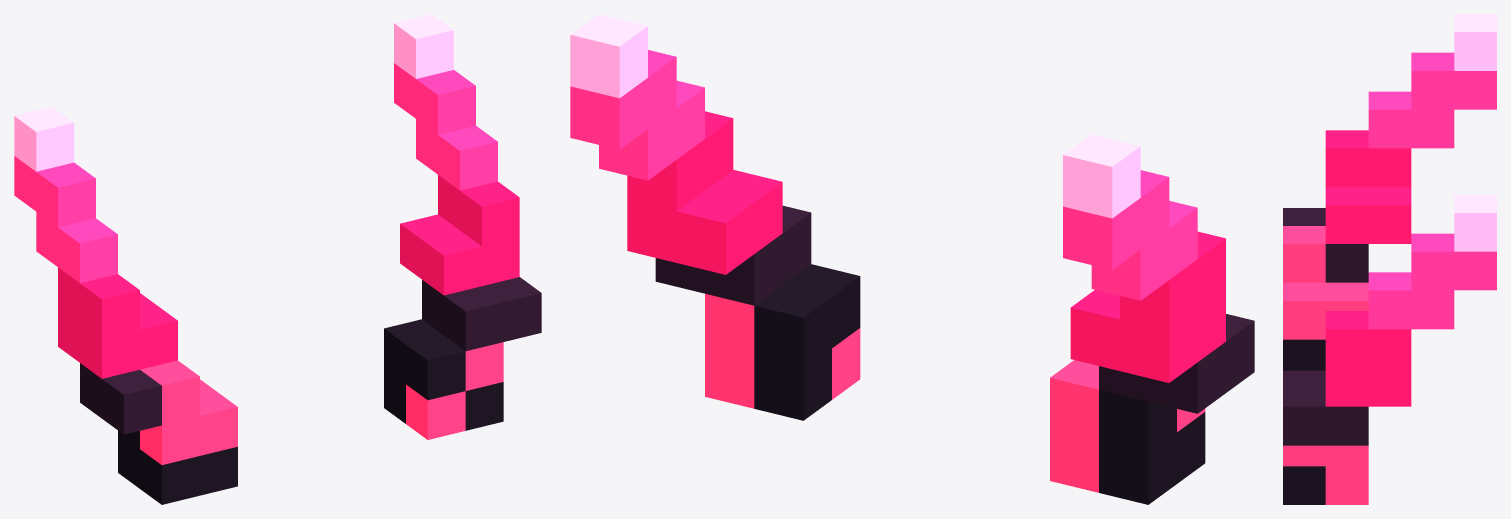
The model's file is acc_horns.glb.
The picture shows the model from 3 angles, left to right: view 1: azimuth 30°, elevation 25°; view 2: azimuth 150°, elevation 25°; view 3: azimuth 270°, elevation 25°; orthographic projection. The views are drawn at different scales.
Parts seen in each view (by area): view 1: acc_horns; view 2: acc_horns; view 3: acc_horns.
Boxes of the visible parts, bbox=[...] form: acc_horns: bbox=[14, 14, 541, 504]; acc_horns: bbox=[570, 14, 1254, 504]; acc_horns: bbox=[1283, 14, 1496, 504].
Size of the model in its own units: 0.6875 by 0.5 by 0.3125.
Materials: 1 (1 with a texture image).
